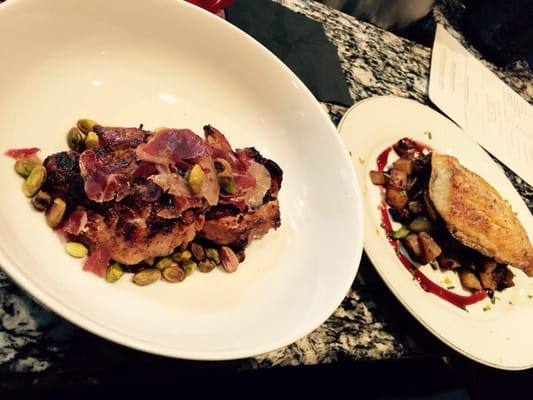sushi: (1, 0, 365, 381), (336, 94, 533, 369)
